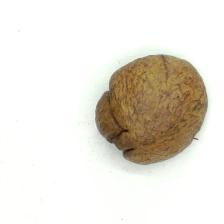NG: (94, 80, 145, 161)
